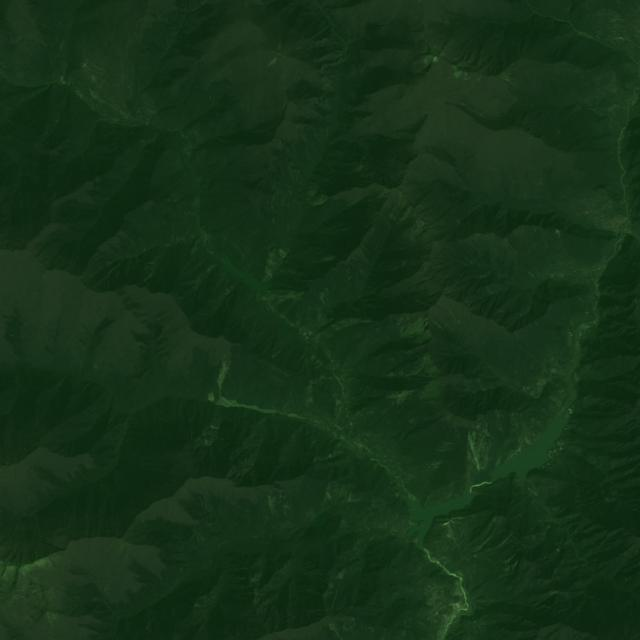landslides: (509, 411, 538, 451), (482, 430, 503, 465), (217, 359, 230, 409), (476, 422, 490, 468), (467, 428, 481, 473), (271, 331, 293, 359), (273, 330, 290, 350), (271, 291, 295, 305), (447, 579, 464, 597), (190, 234, 202, 254), (530, 418, 546, 432), (330, 623, 343, 640), (309, 254, 336, 262), (496, 409, 504, 432), (269, 252, 282, 266), (268, 495, 277, 514), (266, 259, 279, 270), (549, 396, 563, 406), (218, 273, 232, 282), (513, 331, 524, 342), (304, 509, 312, 524), (312, 359, 322, 371), (480, 418, 489, 431), (583, 201, 598, 208), (326, 490, 334, 503), (346, 277, 350, 302)
